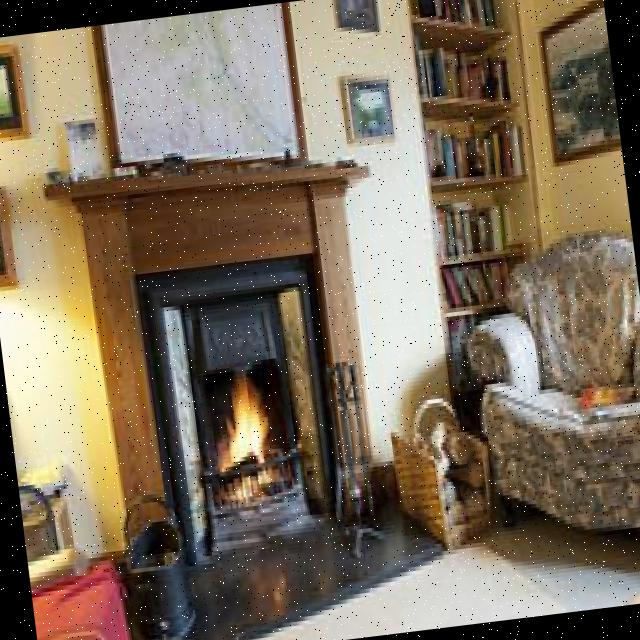fire: (207, 367, 290, 499)
